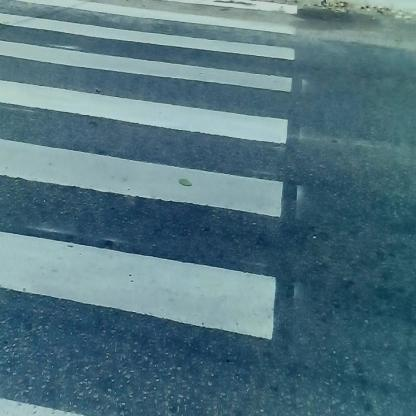crosswalk: (2, 7, 302, 357)
